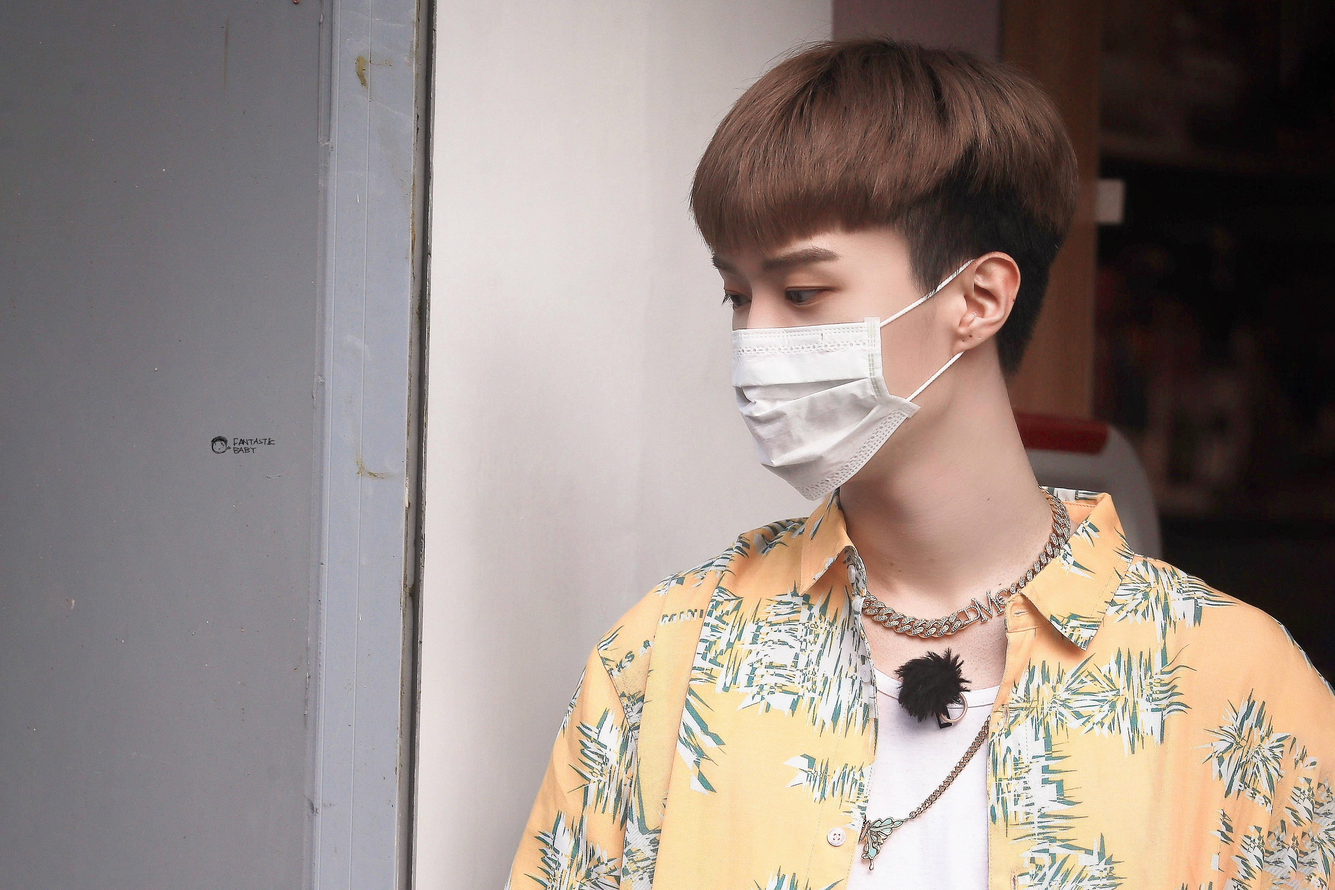OK: (717, 212, 900, 494)
